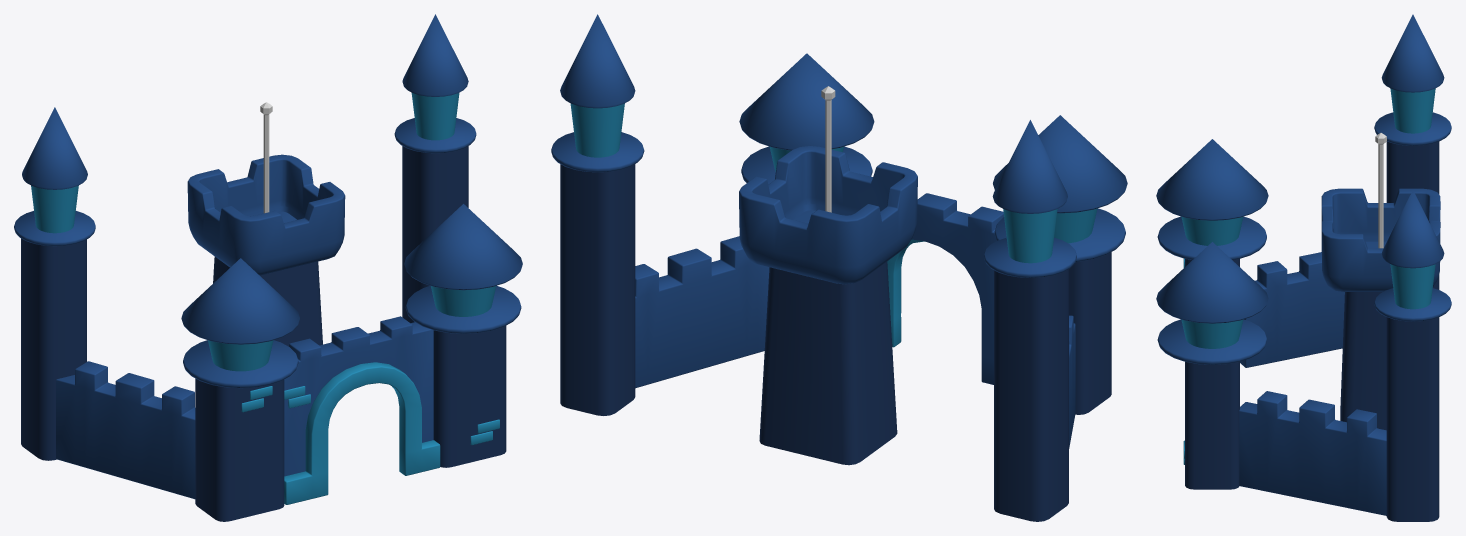
Rendered from castle_blue.fbx.
The picture shows the model from 3 angles, left to right: view 1: azimuth 30°, elevation 25°; view 2: azimuth 150°, elevation 25°; view 3: azimuth 270°, elevation 25°; orthographic projection. The views are drawn at different scales.
Visible parts, largest first — view 1: castle_blue; view 2: castle_blue; view 3: castle_blue.
Part boxes in pixels (<box>): castle_blue: <box>14,14,522,521</box>; castle_blue: <box>551,14,1127,521</box>; castle_blue: <box>1156,14,1451,521</box>.
Bounding box in the file's own units: 2.76 × 1.98 × 1.65.
